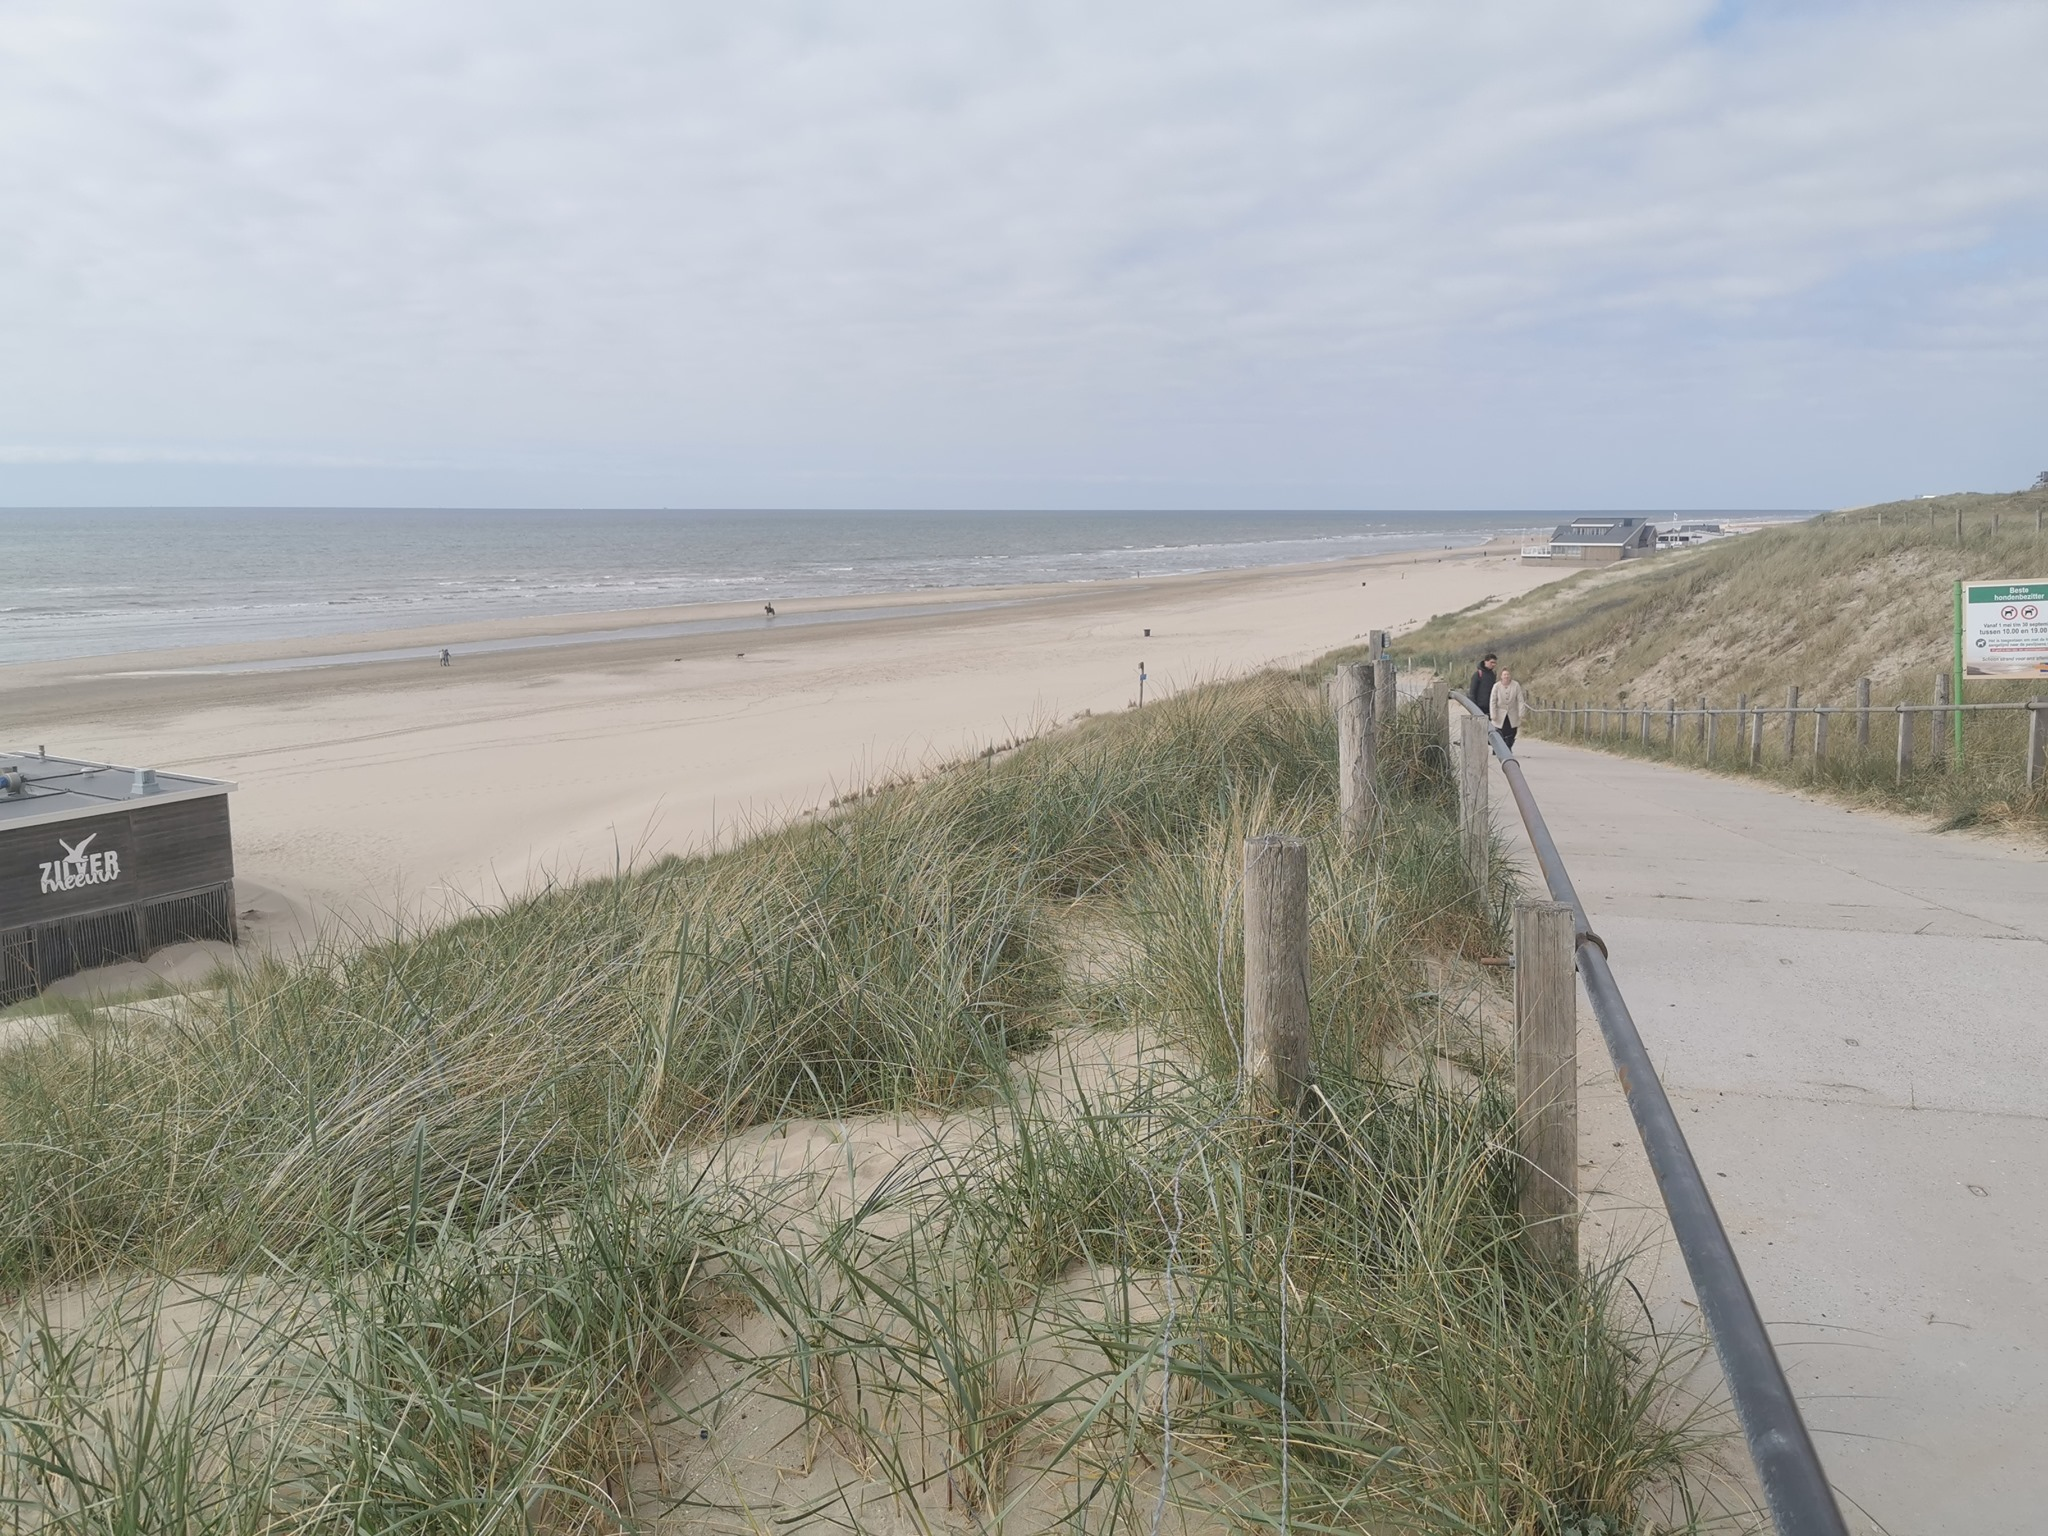zilvermeeuw: (2, 737, 293, 1041)
